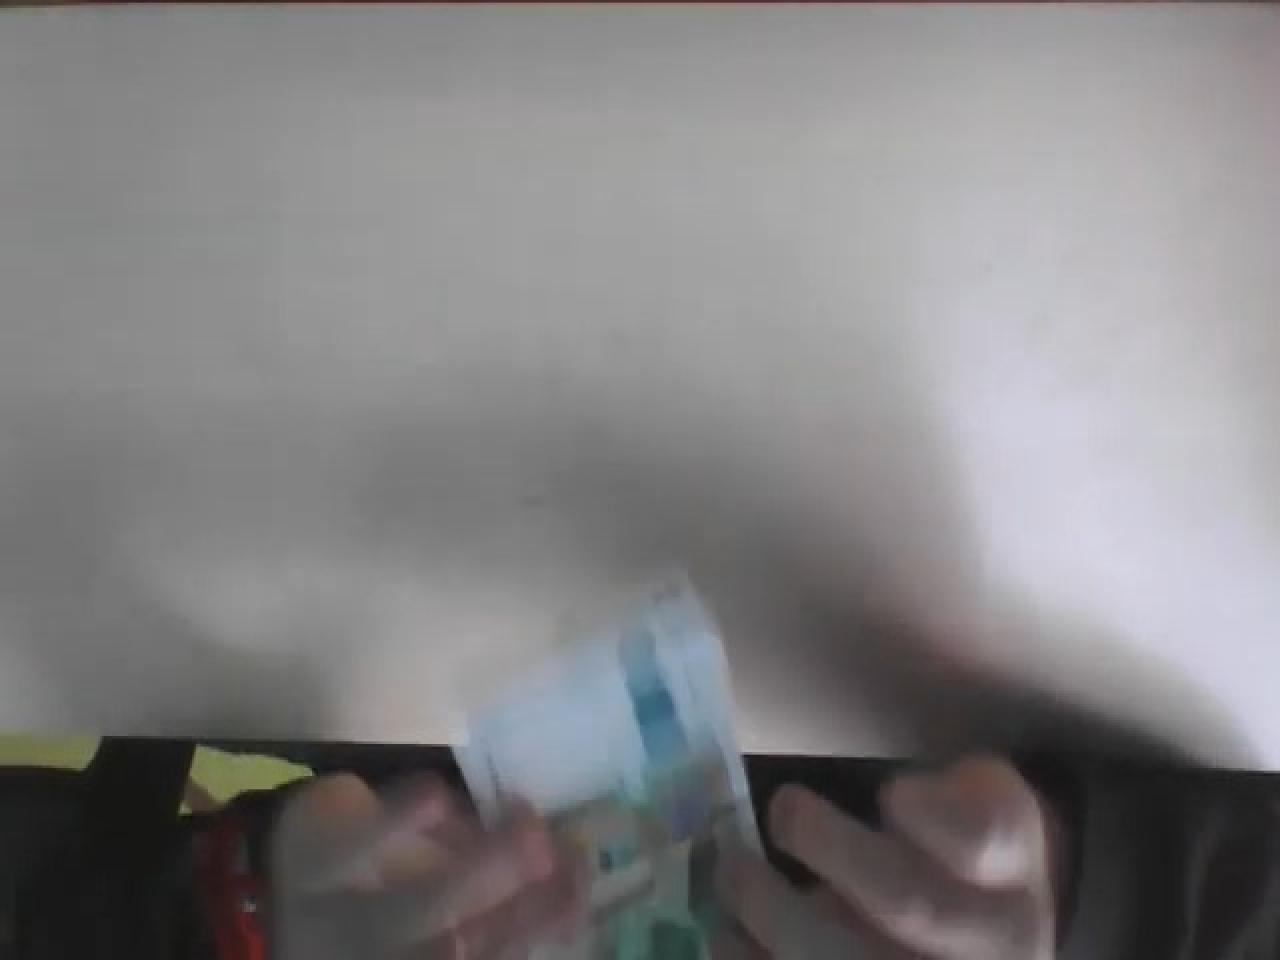100leva: (448, 571, 770, 949)
